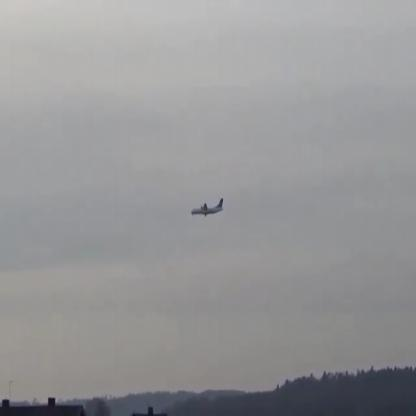plane: (191, 198, 223, 219)
